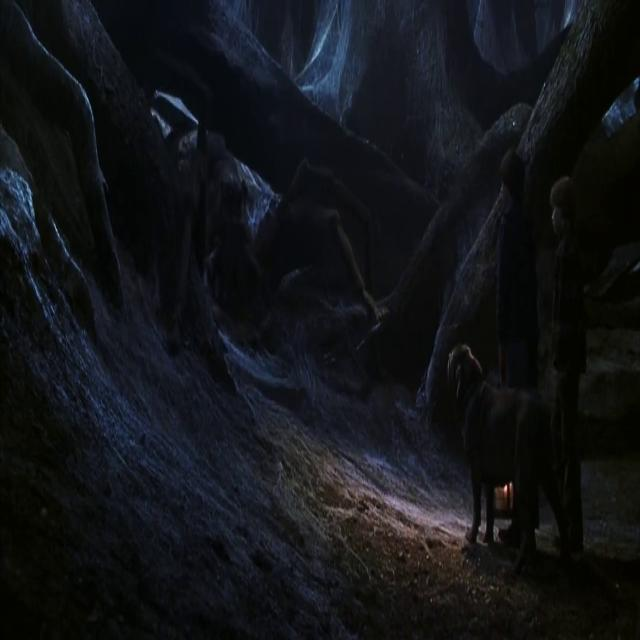People: (541, 173, 597, 515), (497, 126, 541, 422)
dog: (420, 262, 566, 542)
